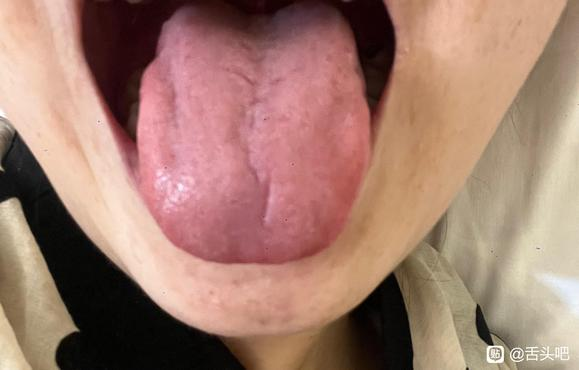baitaishe: (137, 2, 370, 264)
liewenshe: (220, 65, 273, 223)
